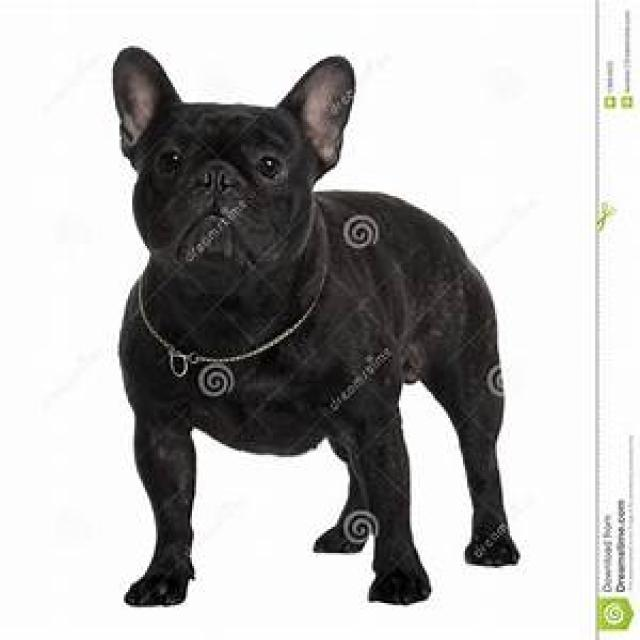dog: (115, 50, 519, 605)
